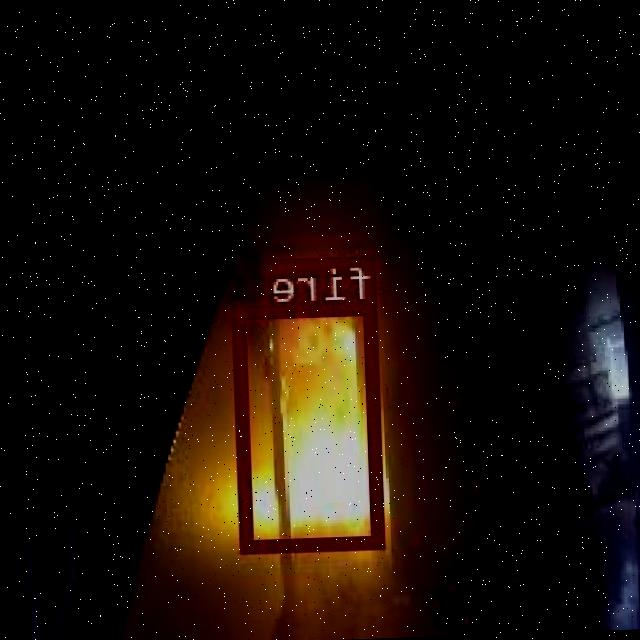fire: (235, 300, 386, 550)
